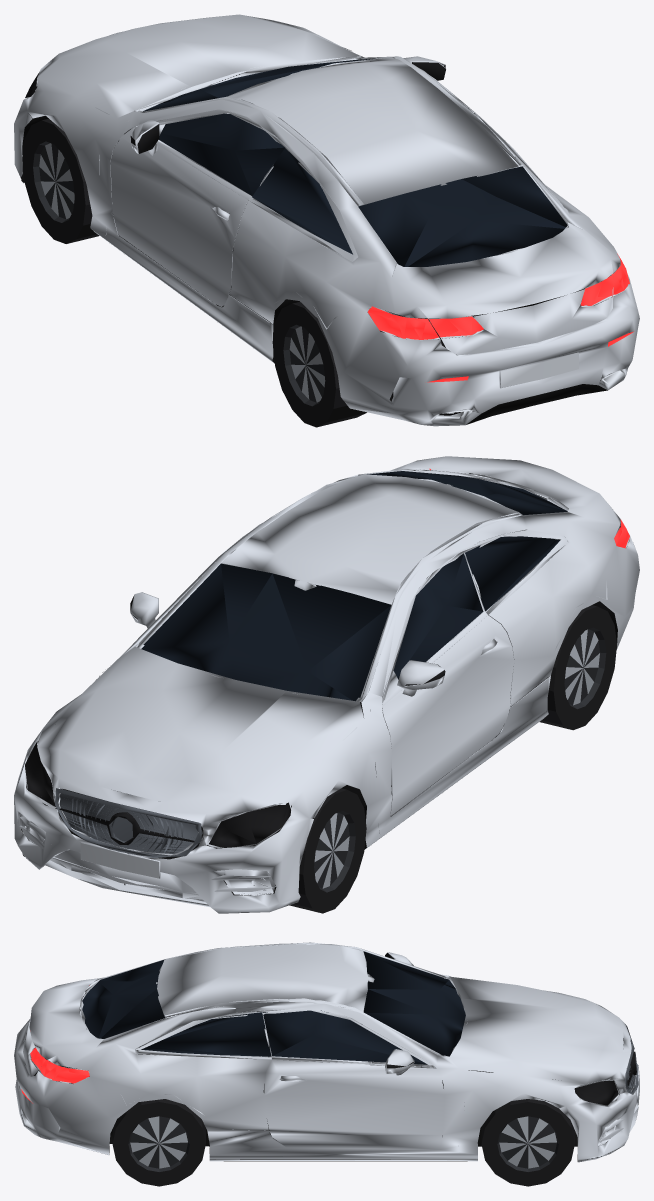
File: car_lp_coupe.glb
The picture shows the model from 3 angles, top to bottom: view 1: azimuth 30°, elevation 25°; view 2: azimuth 150°, elevation 25°; view 3: azimuth 270°, elevation 25°; orthographic projection. The views are drawn at different scales.
Parts seen in each view (by area): view 1: body, wheel_r, wheel_f; view 2: body, wheel_r, wheel_f; view 3: body, wheel_f, wheel_r.
Boxes of the visible parts, x1,y1,x2,y2 form: body: [14, 14, 639, 426]; wheel_r: [272, 301, 545, 427]; wheel_f: [22, 118, 99, 243]; body: [14, 456, 639, 913]; wheel_r: [540, 605, 616, 730]; wheel_f: [289, 788, 366, 913]; body: [14, 942, 639, 1162]; wheel_f: [481, 1099, 574, 1186]; wheel_r: [112, 1054, 205, 1186].
Size of the model in its own units: 1.88 by 1.33 by 4.46.
2 materials, 1 textured.
